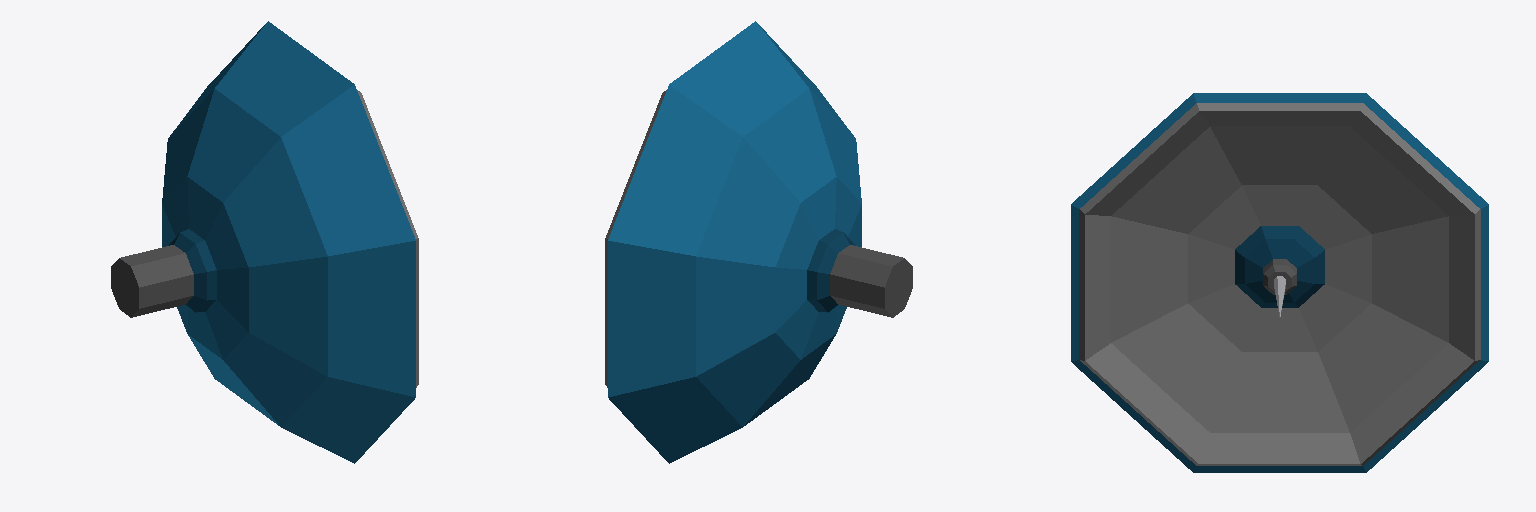
The model's file is Spacestation_Miscellaneous_Dish.obj.
3 views of the same model, side by side, from view 1: azimuth 30°, elevation 25°; view 2: azimuth 150°, elevation 25°; view 3: azimuth 270°, elevation 25° (orthographic).
Visible parts, largest first — view 1: object5, object2, object1, object6; view 2: object5, object2, object1, object6; view 3: object6, object5, object1, object4.
Part boxes in pixels (x1,y1,x2,y2): object5: (162,21,415,463); object2: (111,245,193,317); object1: (169,229,216,312); object6: (357,90,418,387); object5: (608,21,861,463); object2: (830,245,912,317); object1: (807,229,854,312); object6: (605,90,666,387); object6: (1079,103,1480,465); object5: (1071,93,1488,472); object1: (1235,226,1324,307); object4: (1263,259,1296,294).
Size of the model in its own units: 0.8 by 1.11 by 1.11.